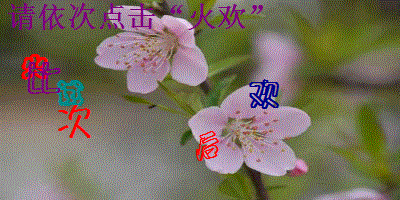text: (56, 105, 94, 141), (27, 60, 61, 95), (246, 78, 281, 112), (194, 130, 221, 161), (54, 80, 84, 107), (21, 52, 49, 80)
